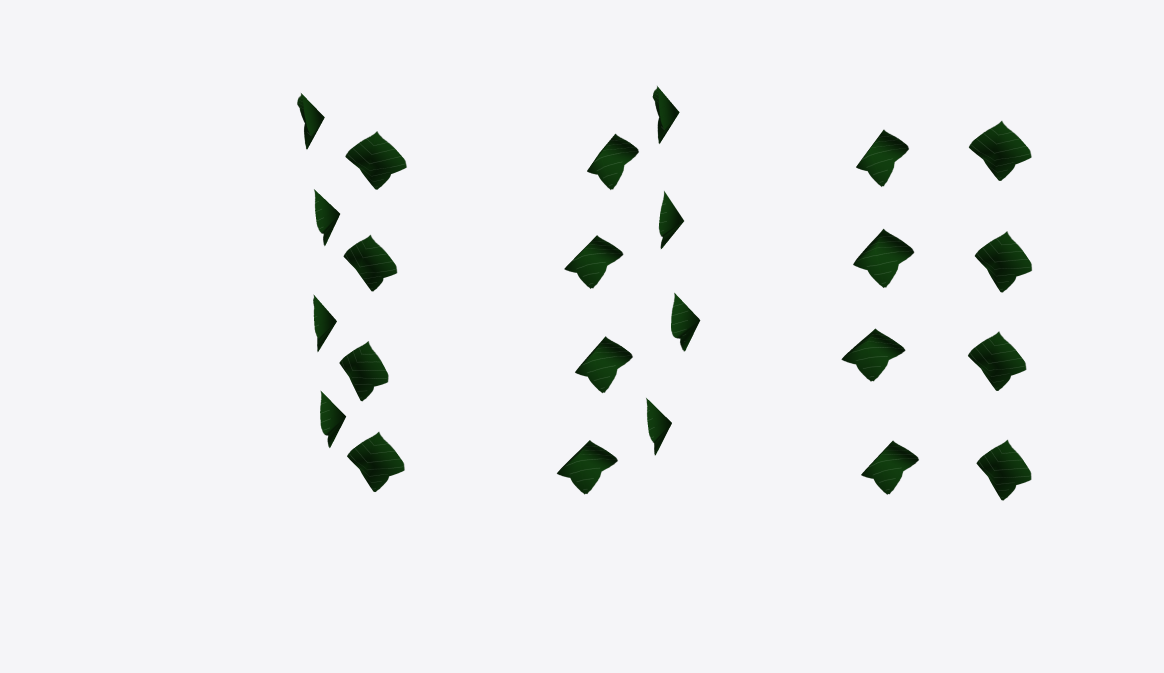
The model's file is Wetland_LizardsTail.glb.
The picture shows the model from 3 angles, left to right: view 1: azimuth 30°, elevation 25°; view 2: azimuth 150°, elevation 25°; view 3: azimuth 270°, elevation 25°; orthographic projection.
Parts seen in each view (by area): view 1: Wetland_LizardsTail; view 2: Wetland_LizardsTail; view 3: Wetland_LizardsTail.
Boxes of the visible parts, x1,y1,x2,y2 form: Wetland_LizardsTail: [297, 93, 406, 491]; Wetland_LizardsTail: [557, 86, 700, 494]; Wetland_LizardsTail: [841, 121, 1031, 500].
Size of the model in its own units: 0.5236 by 0.9408 by 0.4133.
1 material, 1 textured.
